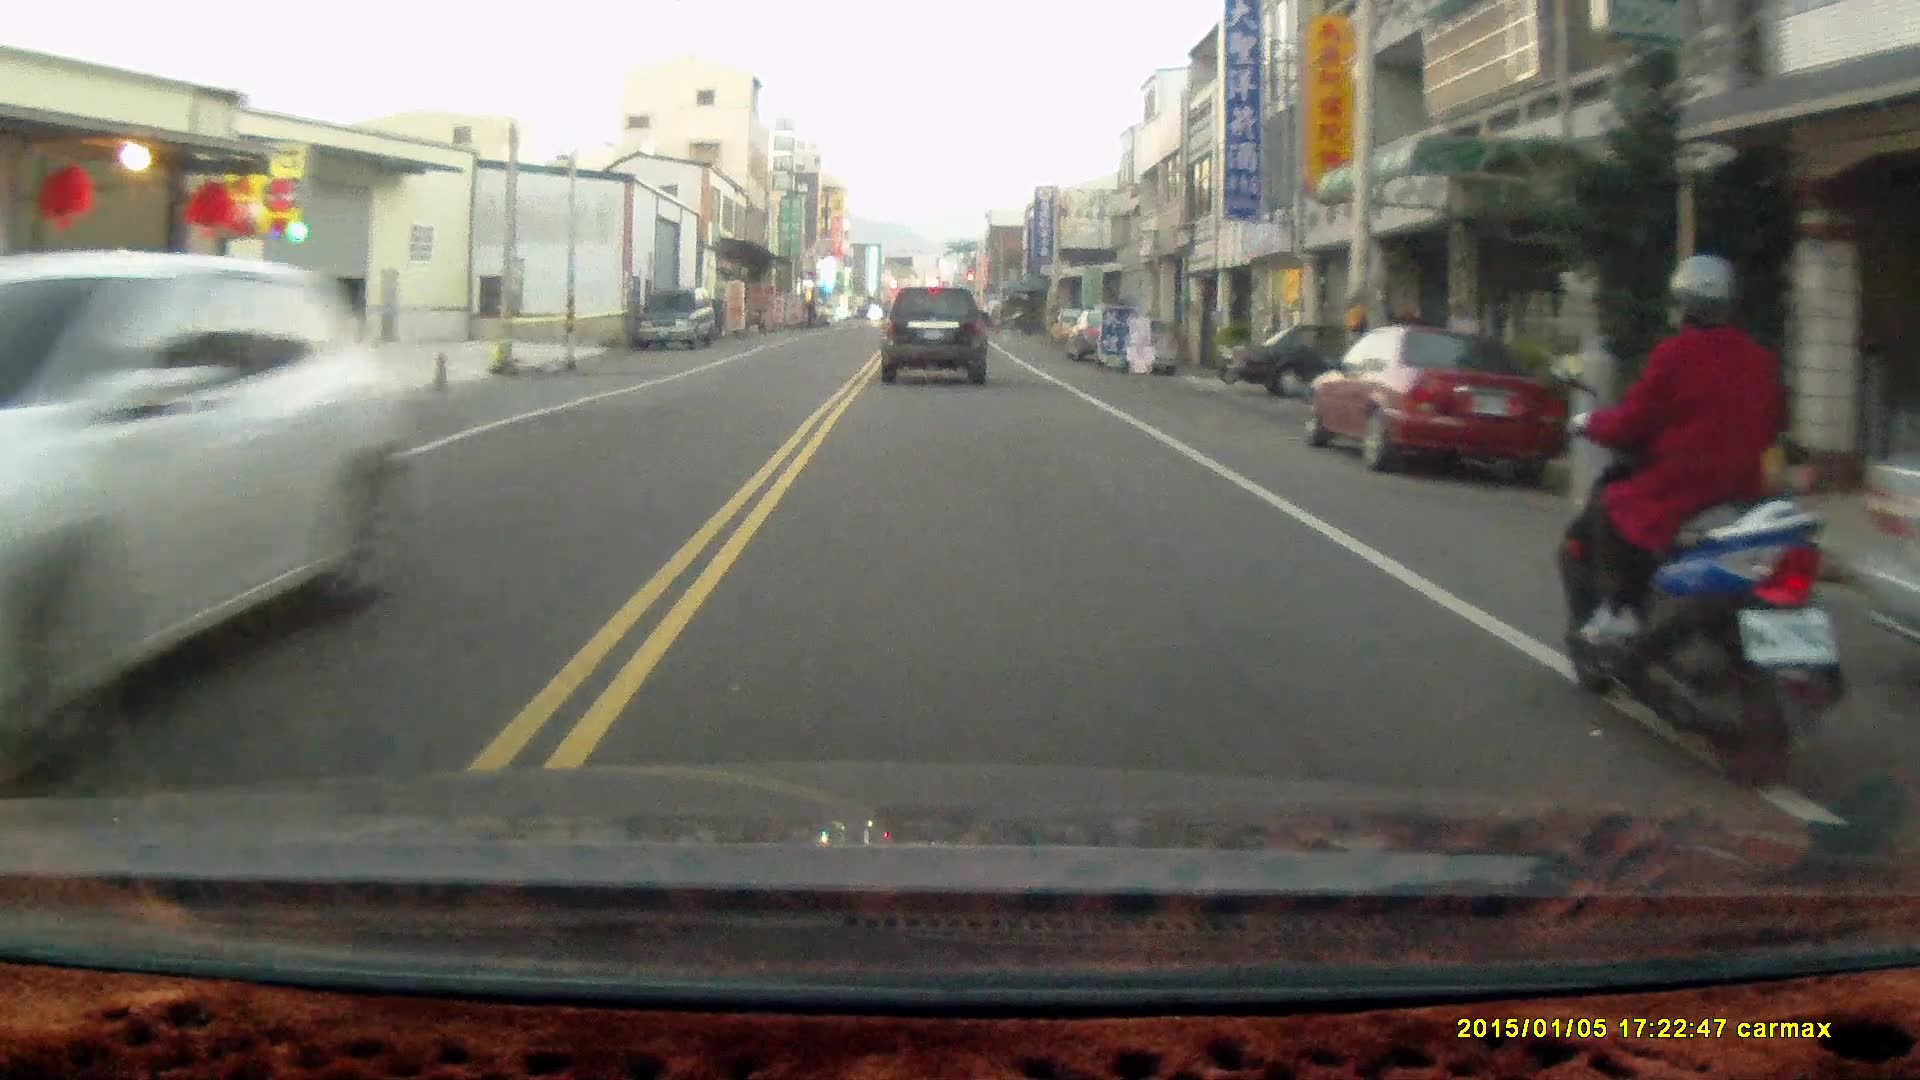rider: (1553, 243, 1849, 798)
vehicle: (1, 249, 406, 775), (1312, 316, 1568, 488), (1222, 321, 1438, 401), (882, 279, 991, 384), (635, 288, 721, 352)
